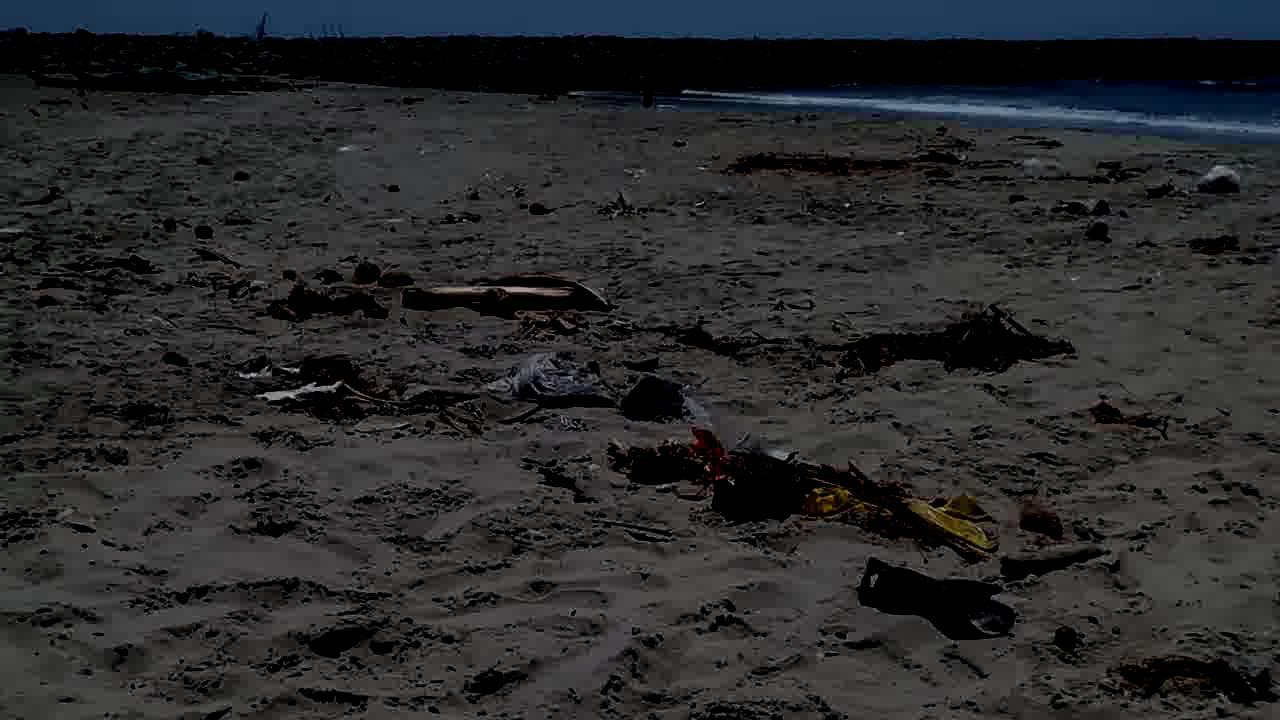obj: (603, 424, 1001, 562), (642, 291, 1074, 388), (264, 256, 614, 343), (234, 353, 477, 433), (852, 560, 1021, 640), (708, 131, 963, 182), (508, 350, 698, 417), (1102, 648, 1272, 706), (706, 468, 856, 526), (1000, 539, 1114, 585), (256, 378, 346, 404), (1016, 497, 1066, 539), (1187, 164, 1242, 195)
sand/background: (1, 1, 1279, 152)
